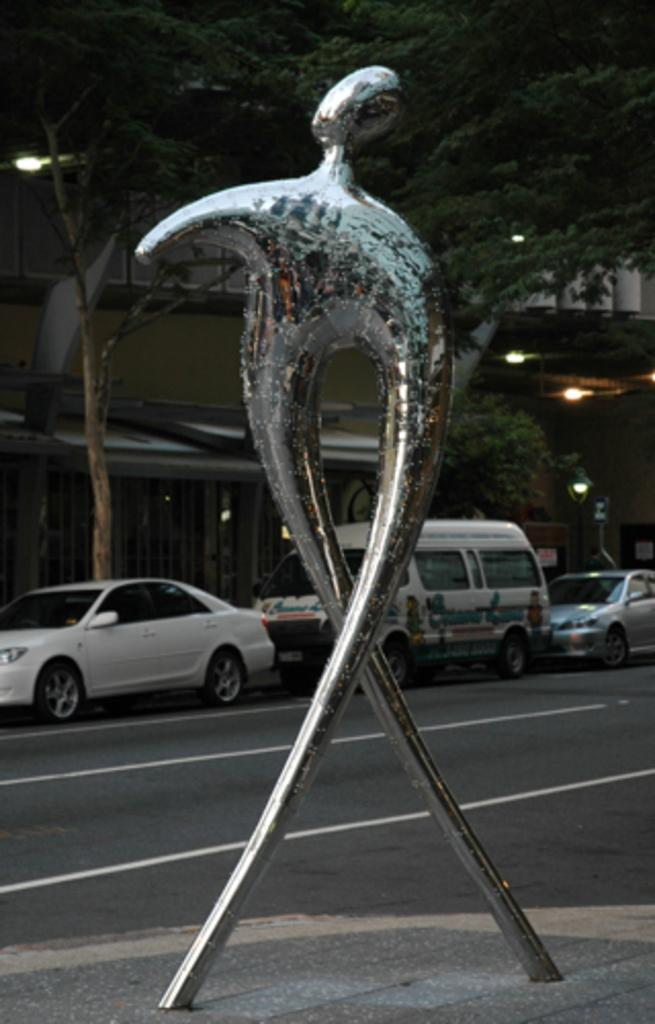vehicle: (251, 519, 550, 690), (0, 577, 277, 726), (521, 569, 654, 669)
